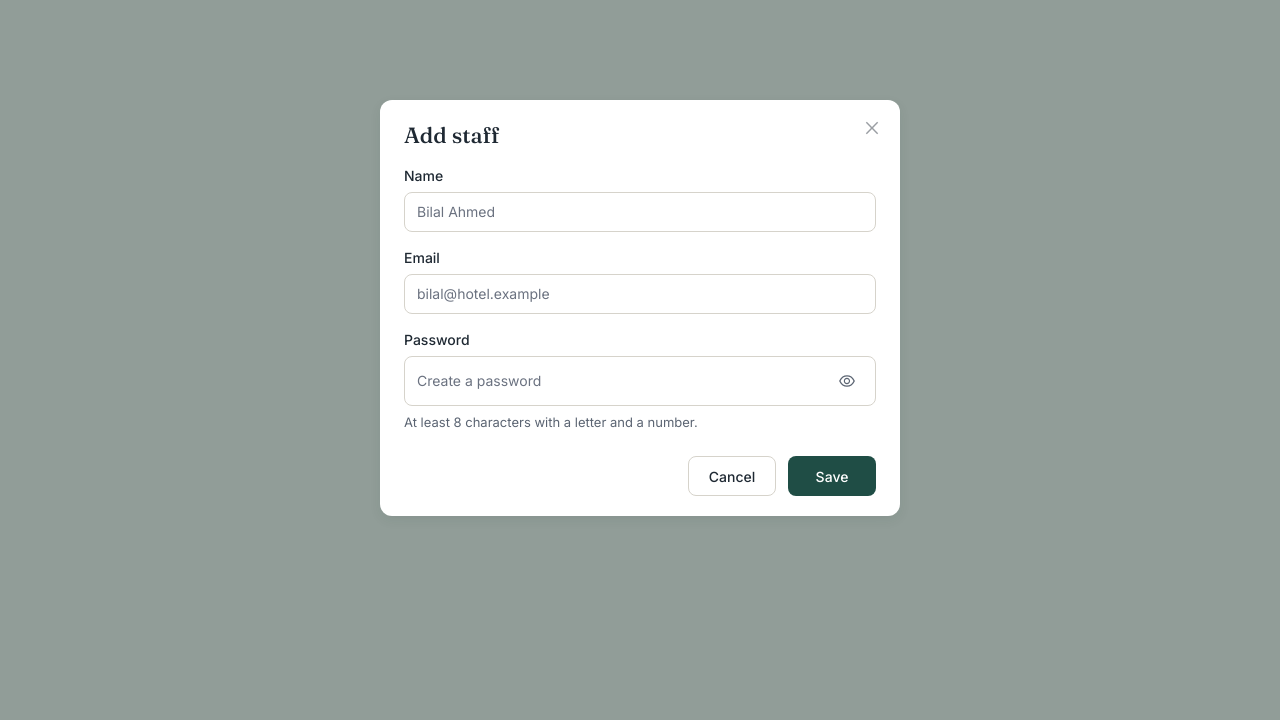
Test: StaffFormModal › validates name, email, and strong password with helper text and toggles password visibility
Expected: the dialog shows "Add staff", 404,121 -> 499,149
Expected: the text "At least 8 characters with a letter and a number." is shown, 404,414 -> 698,430
Click the button named "Show password": (847, 381) 831,365 -> 863,397
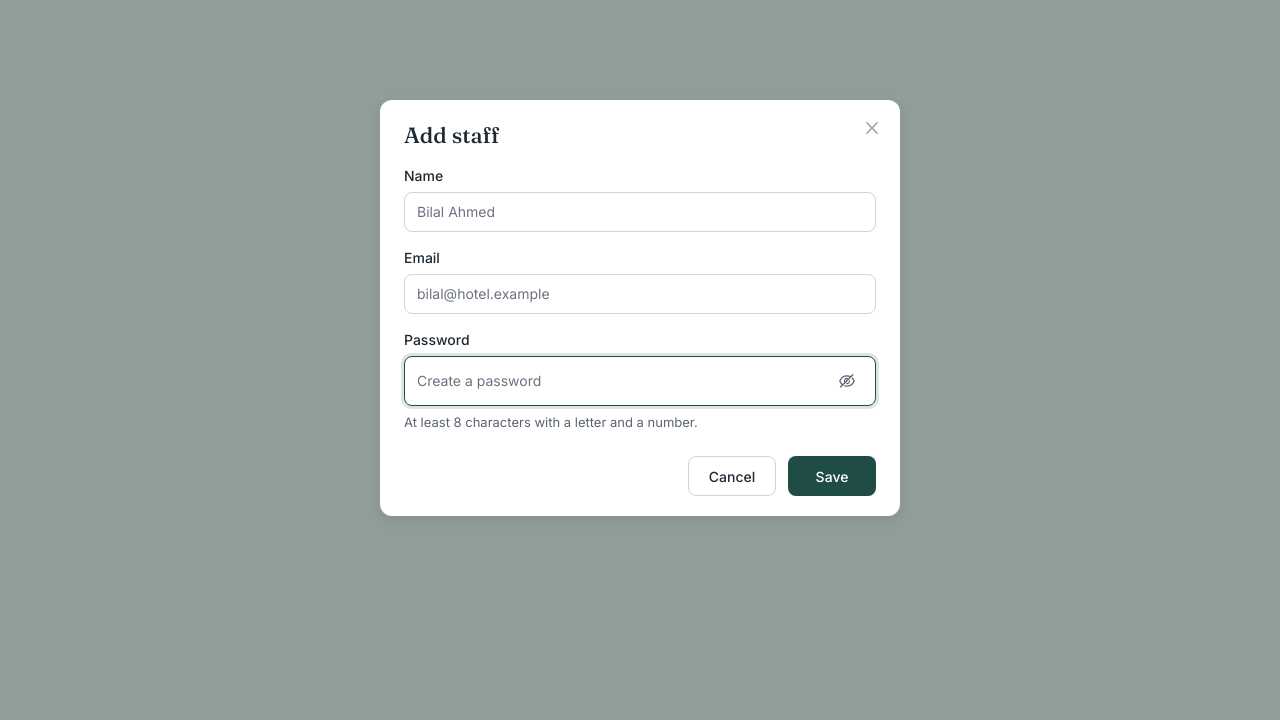
In the field labelled "Name": (640, 212) 404,192 -> 876,232, type "A"
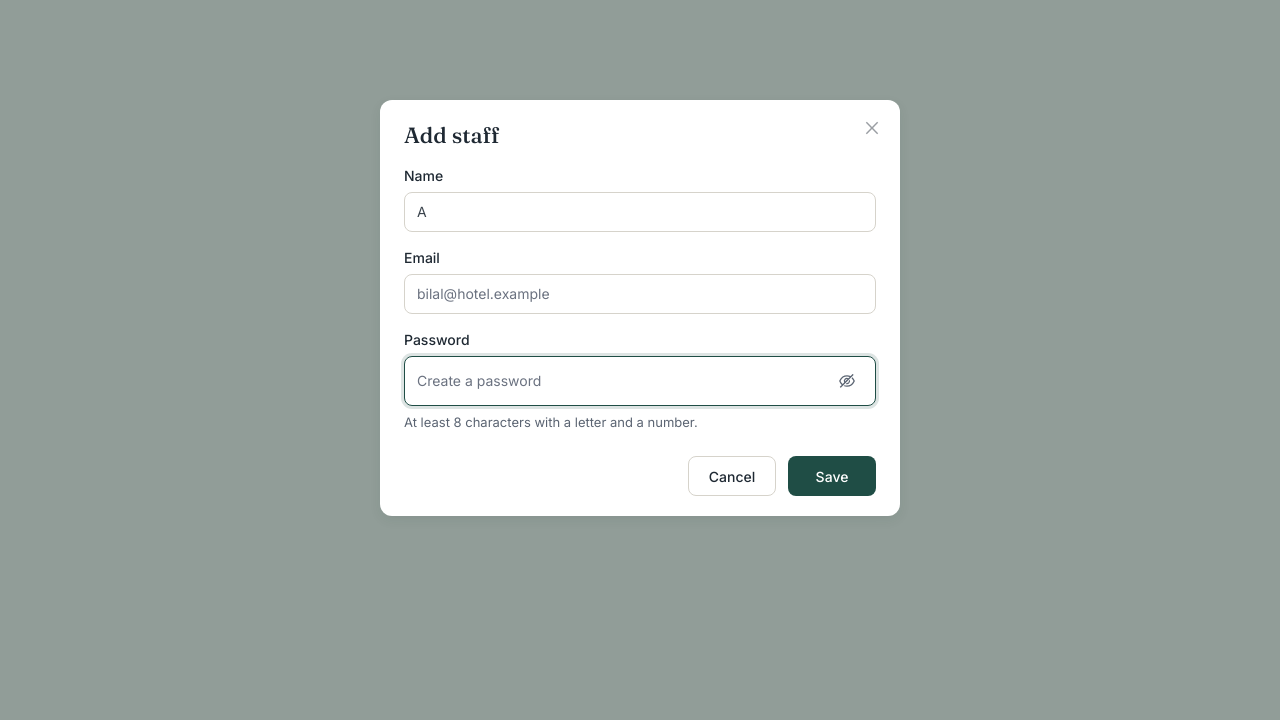
In the field labelled "Email": (640, 294) 404,274 -> 876,314, type "not-an-email"
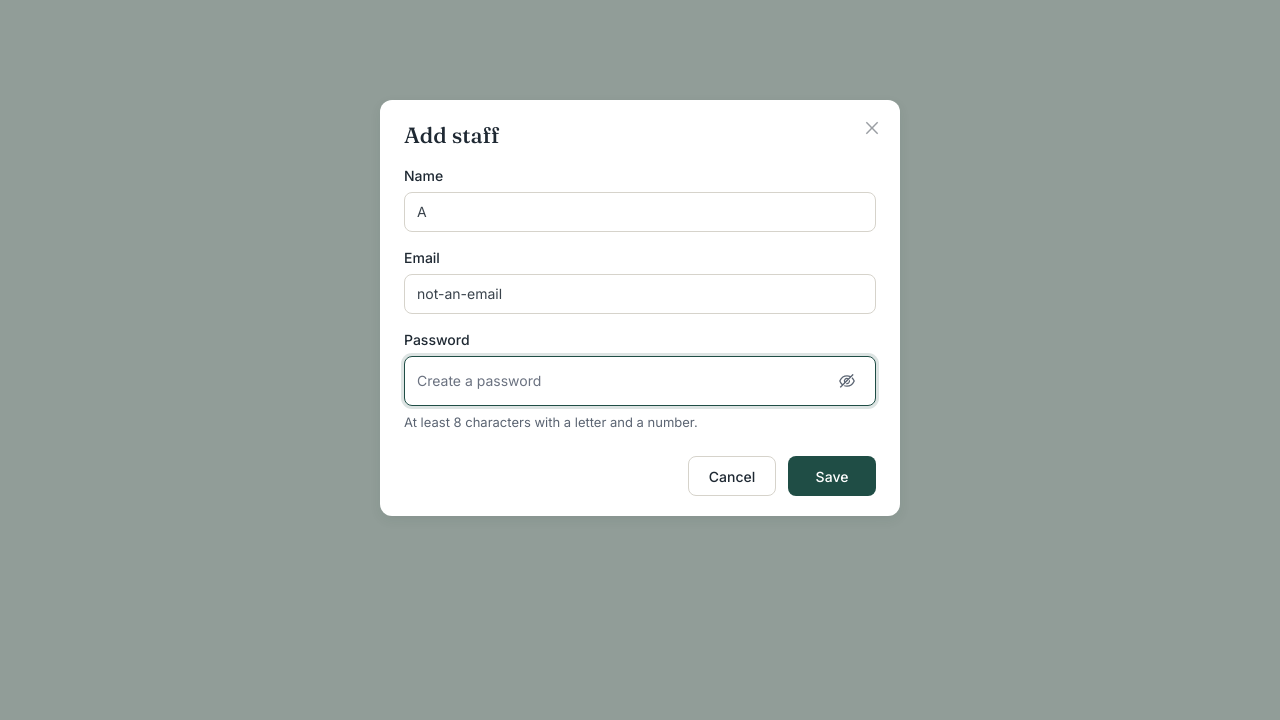
In the field labelled "Password": (622, 381) 417,365 -> 827,397, type "short"
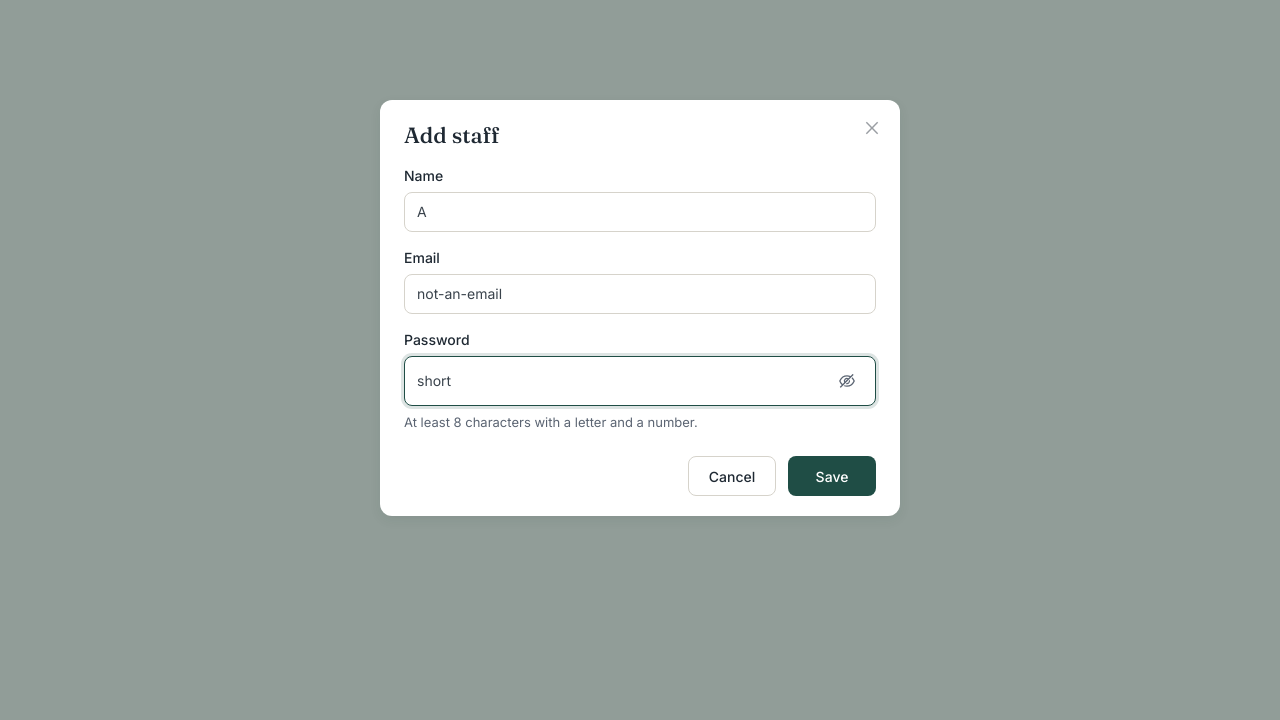
Click the button "Save": (832, 476) 788,456 -> 876,496
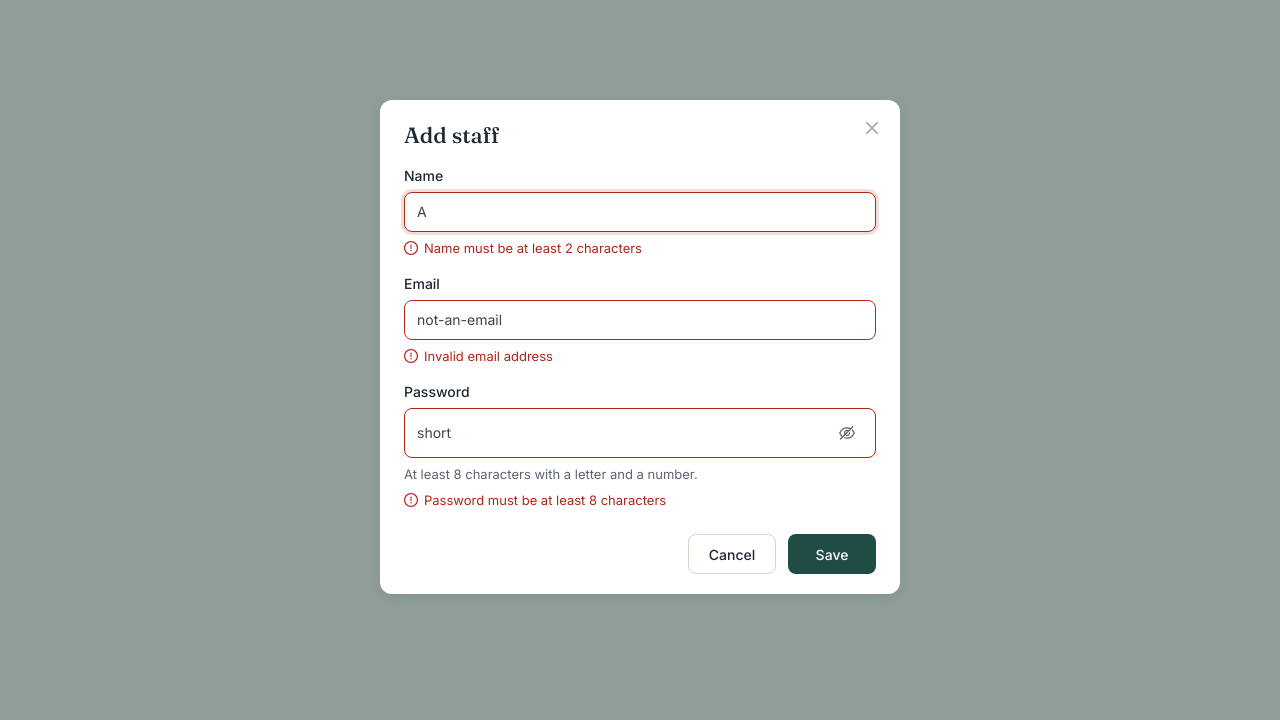
Now the text "Name must be at least 2 characters" is shown, box 424,238 -> 642,258
Now the text "Invalid email address" is shown, box 424,346 -> 553,366
Now the text "Password must be at least 8 characters" is shown, box 424,490 -> 666,510
